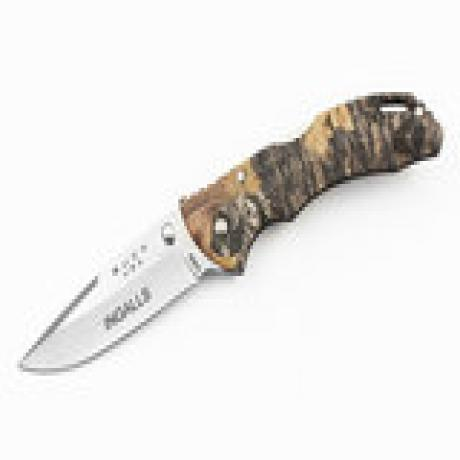weapon: (18, 83, 444, 382)
